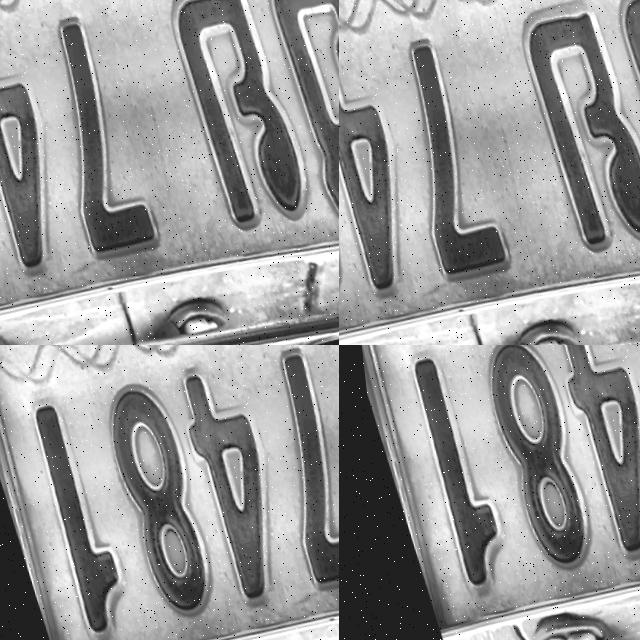license-plate: (339, 345, 640, 640), (501, 0, 596, 65), (8, 0, 65, 57)
